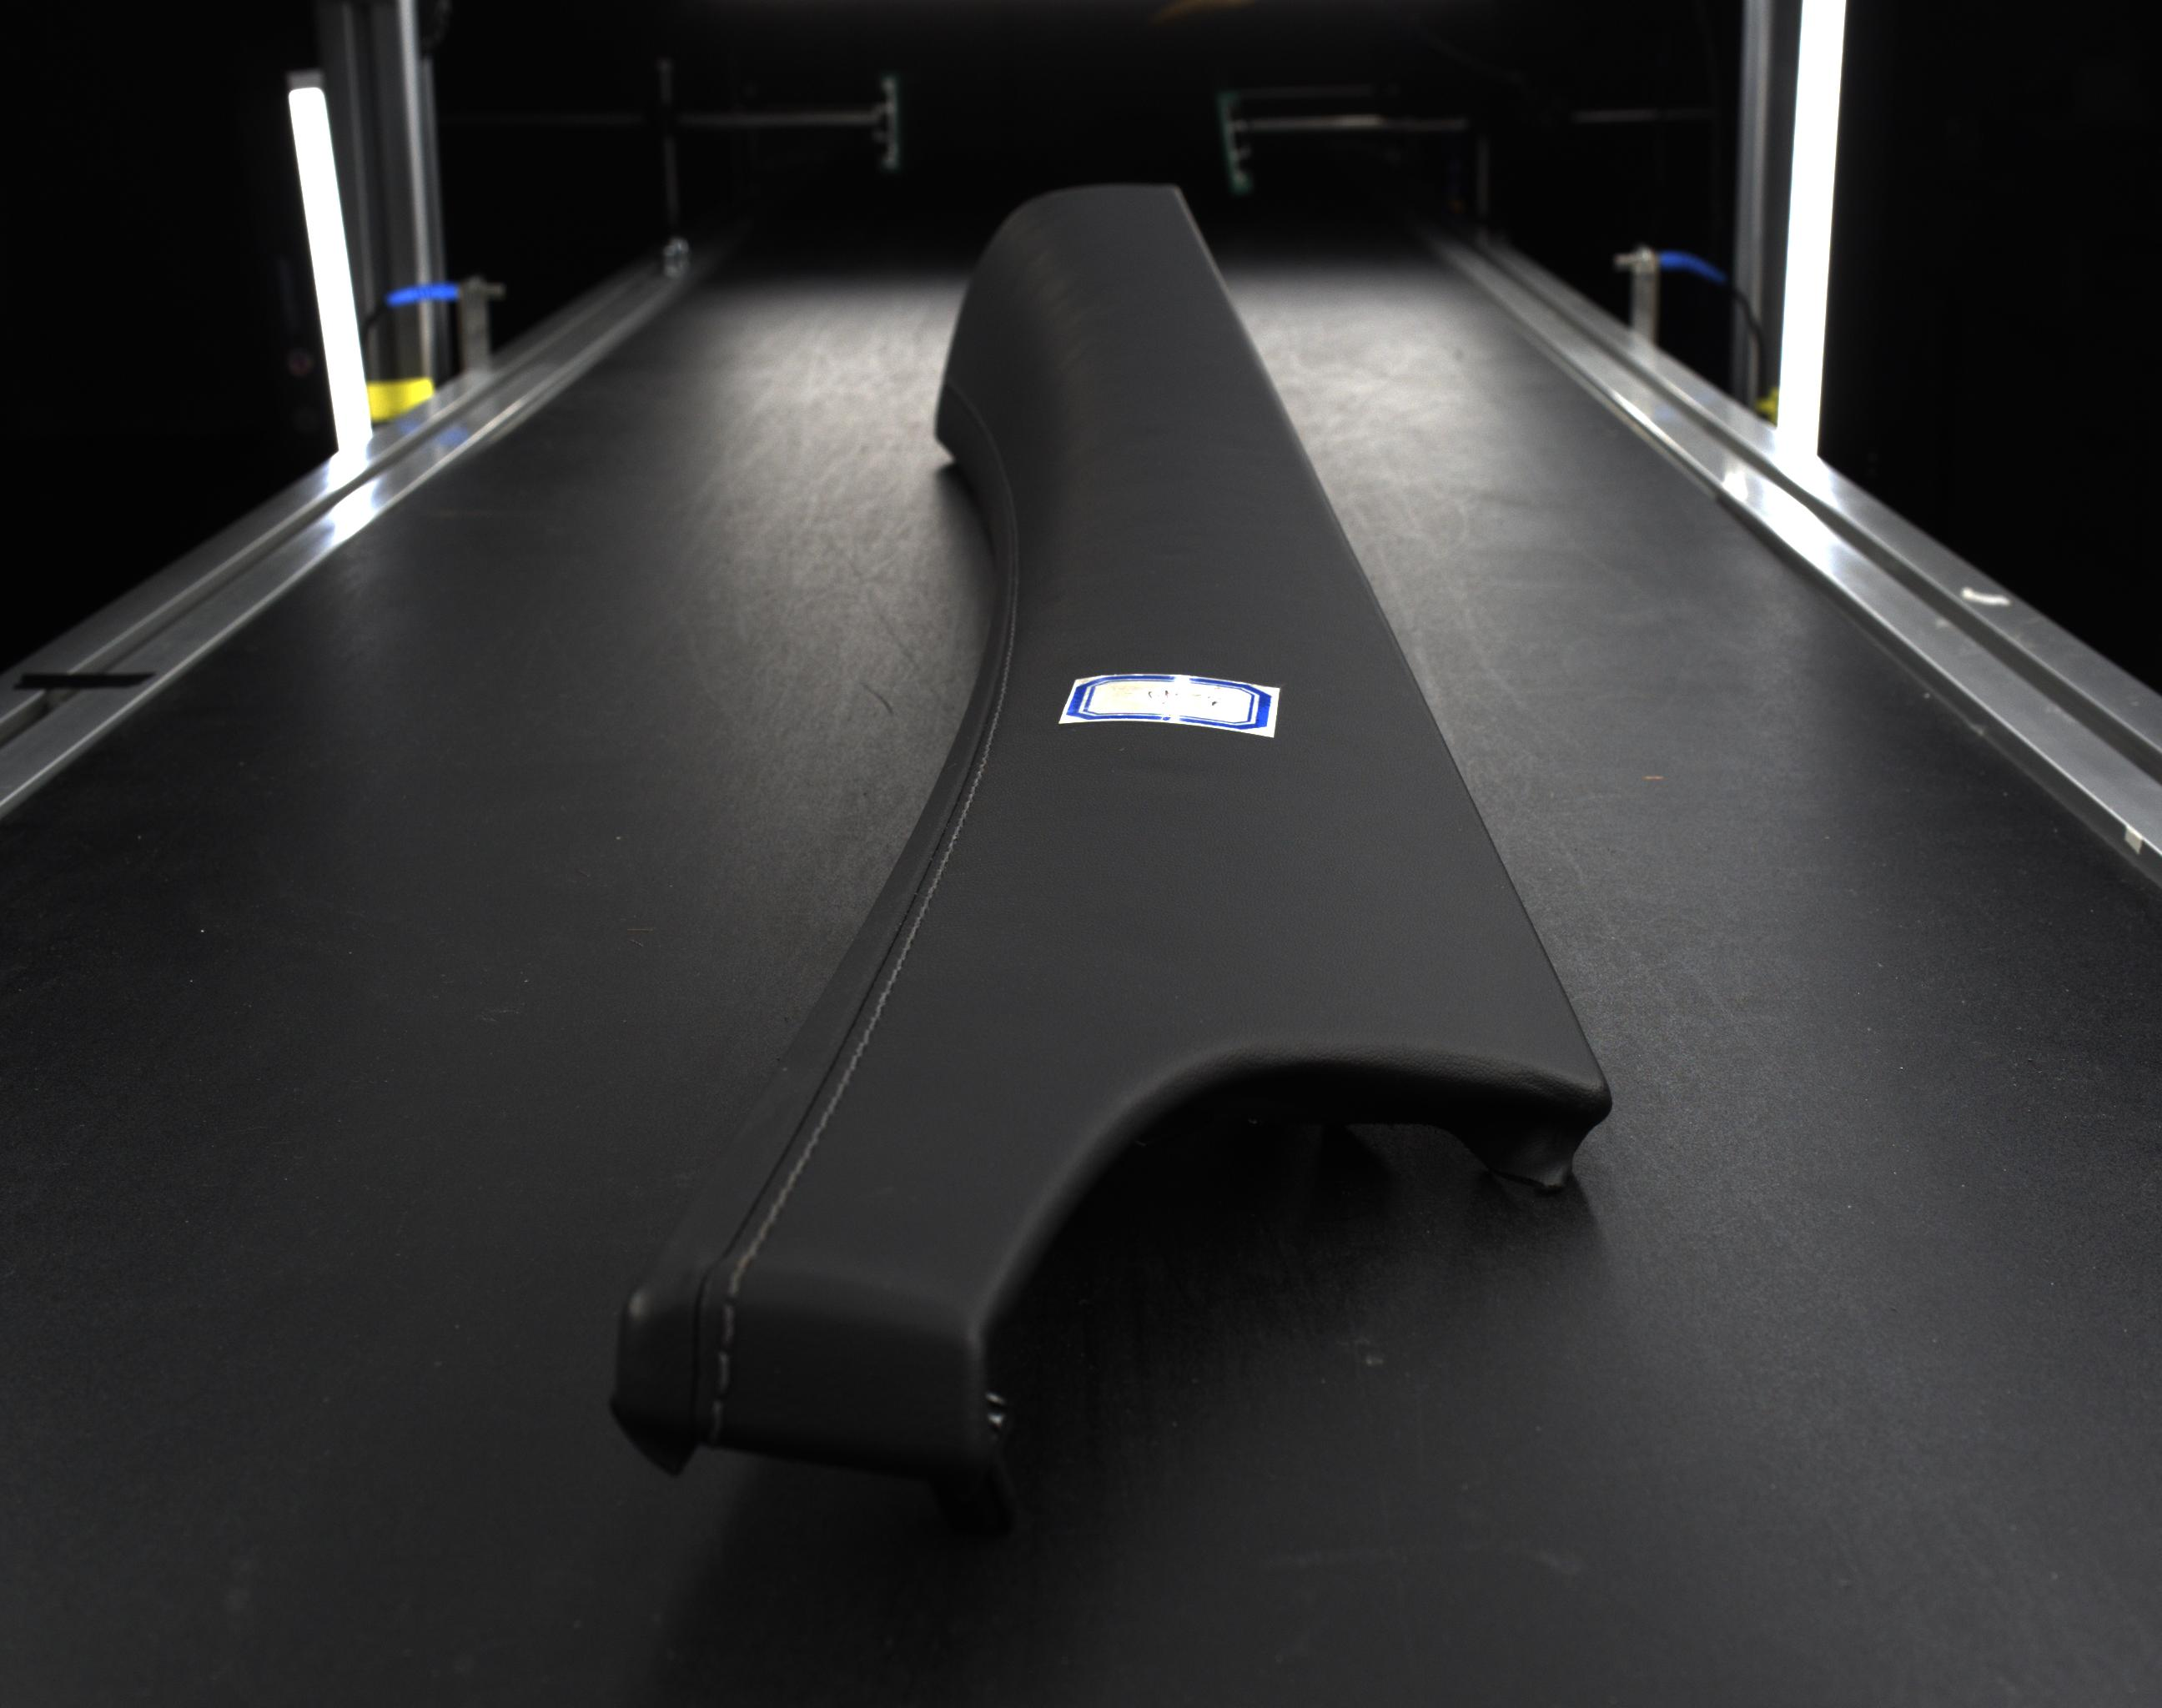vline: (719, 1306, 737, 1348), (714, 1355, 728, 1394), (711, 1404, 725, 1441)
